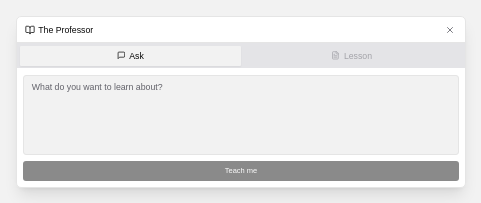
Scenario: Professor › handles failed JSON parsing
Type "javascript promises" into the text box with placeholder "What do you want to learn about?" at (241, 114), box x1=23 y1=74 x2=459 y2=154
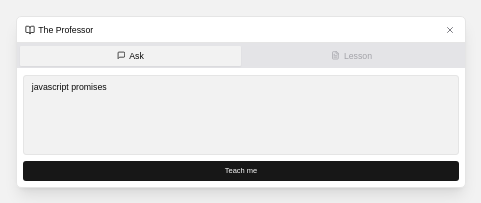
Click the button "Teach me" at (241, 171), box x1=23 y1=161 x2=459 y2=181
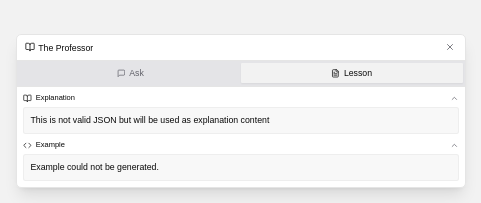
Expected: the text "Explanation" is shown, x1=23 y1=93 x2=75 y2=103
Expected: the text "This is not valid JSON" is shown, x1=30 y1=115 x2=269 y2=125
